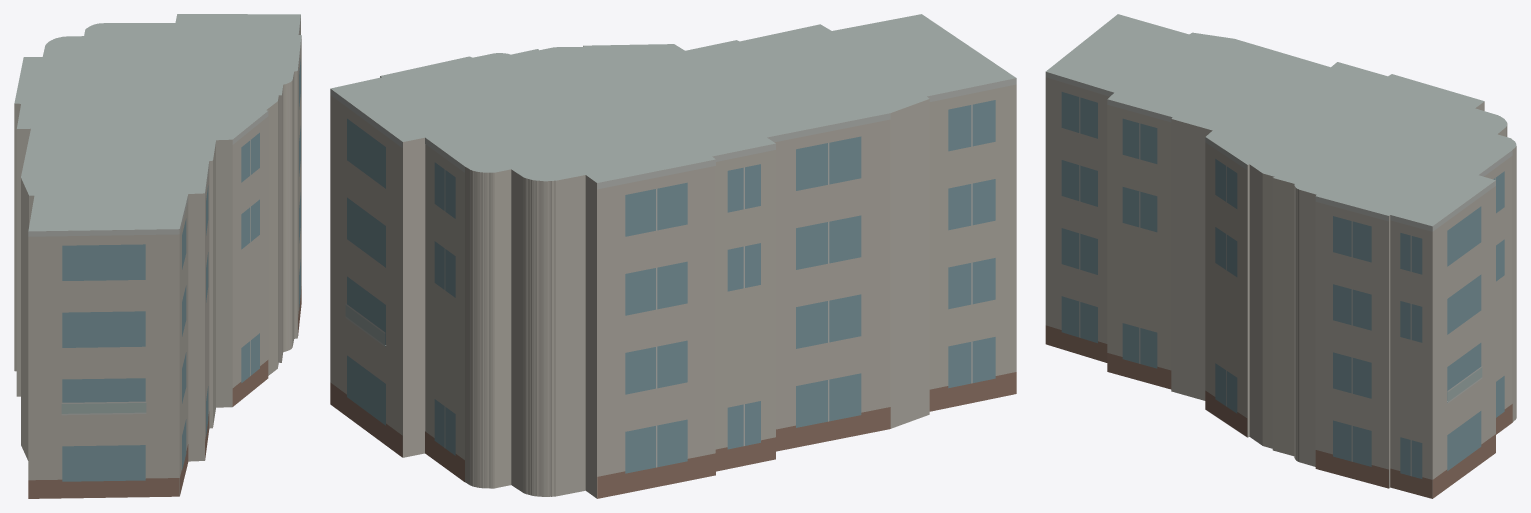
The model's file is survey-upis-32669467.glb.
3 renders of one model, left to right at view 1: azimuth 30°, elevation 25°; view 2: azimuth 150°, elevation 25°; view 3: azimuth 270°, elevation 25°, orthographic. The views are drawn at different scales.
Parts seen in each view (by area): view 1: survey-upis-32669467.tmp; view 2: survey-upis-32669467.tmp; view 3: survey-upis-32669467.tmp.
Part boxes in pixels (bbox=[...]): survey-upis-32669467.tmp: bbox=[14, 14, 301, 498]; survey-upis-32669467.tmp: bbox=[330, 14, 1016, 498]; survey-upis-32669467.tmp: bbox=[1045, 14, 1516, 498].
Bounding box in the file's own units: 20.39 × 12.2 × 19.11.
